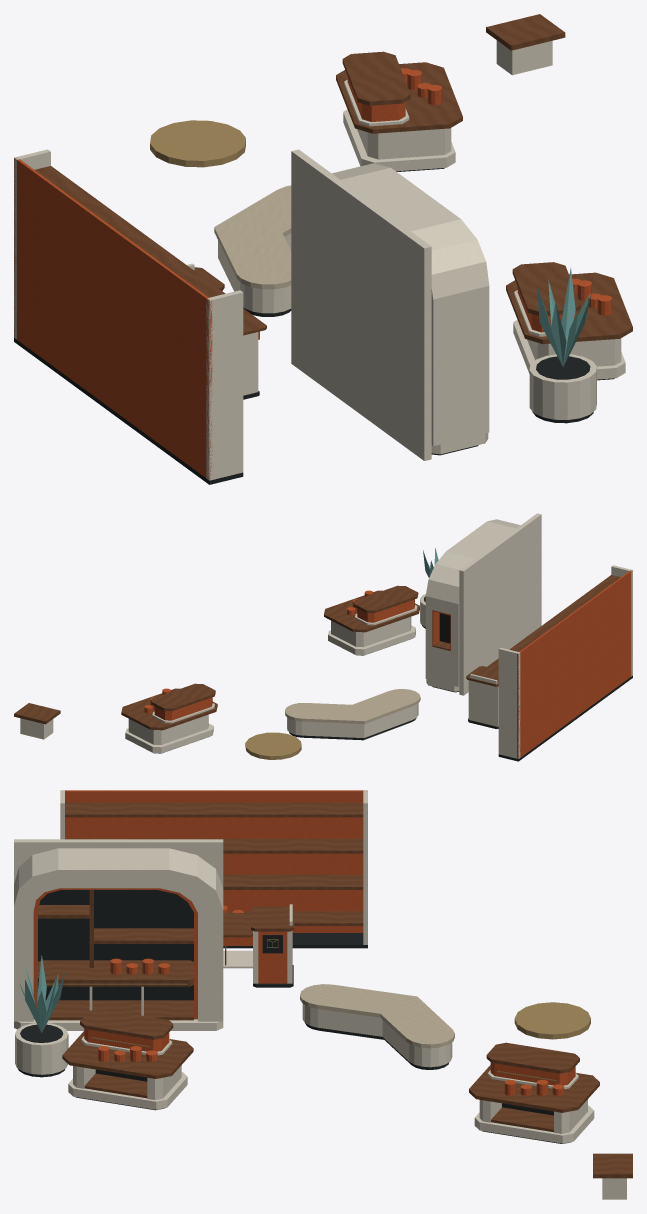
The model's file is SHOP_D09_P100_F262__fitout.glb.
3 renders of one model, top to bottom at view 1: azimuth 30°, elevation 25°; view 2: azimuth 150°, elevation 25°; view 3: azimuth 270°, elevation 25°, orthographic. The views are drawn at different scales.
Parts seen in each view (by area): view 1: SHOP_D09_P100_F262__fitout__ivory_enamel, SHOP_D09_P100_F262__fitout__retail_terracotta_enamel, SHOP_D09_P100_F262__fitout__warm_walnut, SHOP_D09_P100_F262__fitout__oatmeal_weave, SHOP_D09_P100_F262__fitout__champagne_metal, SHOP_D09_P100_F262__fitout__dark_rubber, SHOP_D09_P100_F262__fitout__quiet_teal; view 2: SHOP_D09_P100_F262__fitout__ivory_enamel, SHOP_D09_P100_F262__fitout__retail_terracotta_enamel, SHOP_D09_P100_F262__fitout__warm_walnut, SHOP_D09_P100_F262__fitout__oatmeal_weave, SHOP_D09_P100_F262__fitout__dark_rubber, SHOP_D09_P100_F262__fitout__champagne_metal; view 3: SHOP_D09_P100_F262__fitout__warm_walnut, SHOP_D09_P100_F262__fitout__ivory_enamel, SHOP_D09_P100_F262__fitout__retail_terracotta_enamel, SHOP_D09_P100_F262__fitout__dark_rubber, SHOP_D09_P100_F262__fitout__oatmeal_weave, SHOP_D09_P100_F262__fitout__champagne_metal, SHOP_D09_P100_F262__fitout__quiet_teal.
Part boxes in pixels (bbox=[...]): SHOP_D09_P100_F262__fitout__ivory_enamel: bbox=[14, 40, 625, 480]; SHOP_D09_P100_F262__fitout__retail_terracotta_enamel: bbox=[14, 68, 612, 480]; SHOP_D09_P100_F262__fitout__warm_walnut: bbox=[35, 14, 632, 344]; SHOP_D09_P100_F262__fitout__oatmeal_weave: bbox=[214, 185, 291, 289]; SHOP_D09_P100_F262__fitout__champagne_metal: bbox=[150, 120, 245, 167]; SHOP_D09_P100_F262__fitout__dark_rubber: bbox=[14, 168, 614, 484]; SHOP_D09_P100_F262__fitout__quiet_teal: bbox=[536, 267, 591, 366]; SHOP_D09_P100_F262__fitout__ivory_enamel: bbox=[20, 513, 632, 758]; SHOP_D09_P100_F262__fitout__retail_terracotta_enamel: bbox=[144, 570, 632, 758]; SHOP_D09_P100_F262__fitout__warm_walnut: bbox=[14, 575, 620, 730]; SHOP_D09_P100_F262__fitout__oatmeal_weave: bbox=[285, 689, 420, 723]; SHOP_D09_P100_F262__fitout__dark_rubber: bbox=[153, 596, 632, 761]; SHOP_D09_P100_F262__fitout__champagne_metal: bbox=[245, 732, 301, 759]; SHOP_D09_P100_F262__fitout__warm_walnut: bbox=[38, 802, 632, 1178]; SHOP_D09_P100_F262__fitout__ivory_enamel: bbox=[14, 790, 626, 1199]; SHOP_D09_P100_F262__fitout__retail_terracotta_enamel: bbox=[33, 790, 575, 1095]; SHOP_D09_P100_F262__fitout__dark_rubber: bbox=[18, 890, 571, 1143]; SHOP_D09_P100_F262__fitout__oatmeal_weave: bbox=[300, 984, 454, 1048]; SHOP_D09_P100_F262__fitout__champagne_metal: bbox=[46, 939, 590, 1081]; SHOP_D09_P100_F262__fitout__quiet_teal: bbox=[19, 955, 64, 1032].
Bounding box in the file's own units: 10.25 × 3 × 10.05.
7 materials, 6 textured.
